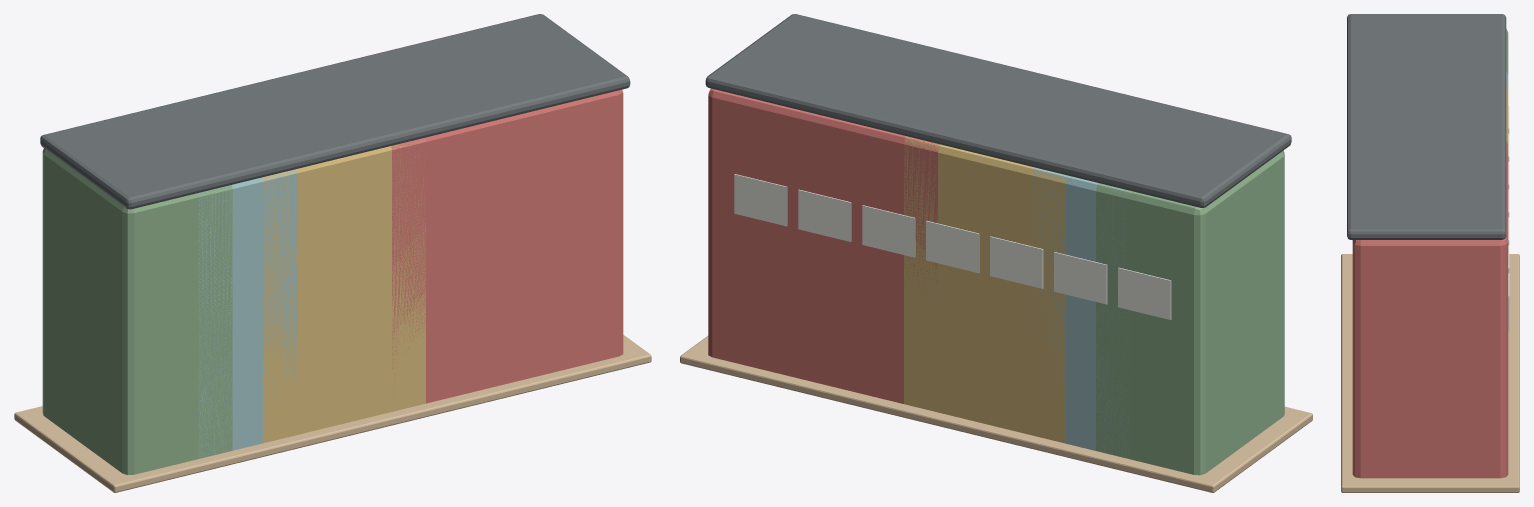
Rendered from Gear13.fbx.
3 views of the same model, side by side, from view 1: azimuth 30°, elevation 25°; view 2: azimuth 150°, elevation 25°; view 3: azimuth 270°, elevation 25° (orthographic). The views are drawn at different scales.
Visible parts, largest first — view 1: Gear13_V10_Leaf, Gear13_V10_Charcoal, Gear13_V4_Crimson, Gear13_V1_Gold, Gear13_V10_Crimson, Gear13_V4_Gold, Gear13_V4_Blue, Gear13_V1_Charcoal, Gear13_V1_Crimson, Gear13_V4_Charcoal, Gear13_V10_Oak; view 2: Gear13_V10_Leaf, Gear13_V10_Charcoal, Gear13_V10_Crimson, Gear13_V4_Charcoal, Gear13_V1_Gold, Gear13_V4_Gold, Gear13_V4_Crimson, Gear13_V1_Crimson, Gear13_V1_Charcoal, Gear13_V10_Oak, Gear13_V4_Blue, Gear13_V10_Paper (+2 smaller); view 3: Gear13_V10_Crimson, Gear13_V10_Charcoal, Gear13_V4_Charcoal, Gear13_V1_Charcoal, Gear13_V10_Oak, Gear13_V10_Paper.
Boxes of the visible parts, bbox=[...] form: Gear13_V10_Leaf: bbox=[42, 148, 232, 474]; Gear13_V10_Charcoal: bbox=[40, 14, 630, 209]; Gear13_V4_Crimson: bbox=[456, 109, 554, 395]; Gear13_V1_Gold: bbox=[262, 153, 361, 443]; Gear13_V10_Crimson: bbox=[520, 89, 623, 375]; Gear13_V4_Gold: bbox=[327, 139, 425, 418]; Gear13_V4_Blue: bbox=[198, 169, 297, 458]; Gear13_V1_Charcoal: bbox=[173, 45, 499, 177]; Gear13_V1_Crimson: bbox=[391, 122, 490, 403]; Gear13_V4_Charcoal: bbox=[111, 30, 562, 190]; Gear13_V10_Oak: bbox=[14, 335, 651, 492]; Gear13_V10_Leaf: bbox=[1096, 150, 1284, 475]; Gear13_V10_Charcoal: bbox=[705, 14, 1291, 207]; Gear13_V10_Crimson: bbox=[708, 88, 810, 380]; Gear13_V4_Charcoal: bbox=[771, 29, 1221, 189]; Gear13_V1_Gold: bbox=[968, 152, 1067, 443]; Gear13_V4_Gold: bbox=[904, 136, 1003, 427]; Gear13_V4_Crimson: bbox=[776, 105, 875, 396]; Gear13_V1_Crimson: bbox=[840, 121, 939, 403]; Gear13_V1_Charcoal: bbox=[835, 45, 1159, 176]; Gear13_V10_Oak: bbox=[680, 336, 1312, 492]; Gear13_V4_Blue: bbox=[1032, 167, 1131, 457]; Gear13_V10_Paper: bbox=[734, 174, 1171, 319]; Gear13_V10_Crimson: bbox=[1352, 197, 1508, 478]; Gear13_V10_Charcoal: bbox=[1347, 14, 1506, 239]; Gear13_V4_Charcoal: bbox=[1347, 42, 1506, 204]; Gear13_V1_Charcoal: bbox=[1347, 70, 1506, 175]; Gear13_V10_Oak: bbox=[1341, 254, 1519, 492]; Gear13_V10_Paper: bbox=[1508, 105, 1509, 331].
Bounding box in the file's own units: 142 × 72.5 × 46.
